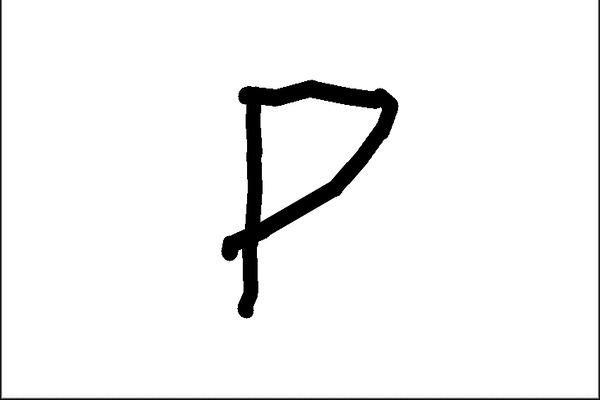P: (204, 68, 407, 320)
